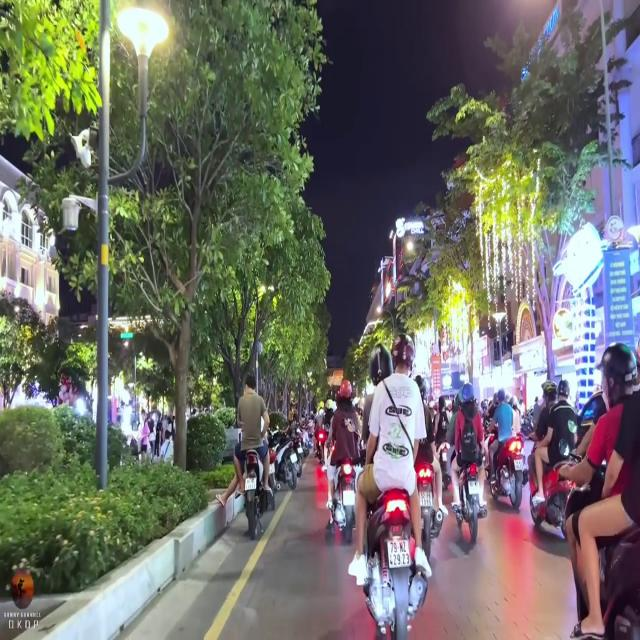bien_trang: (383, 536, 413, 571)
